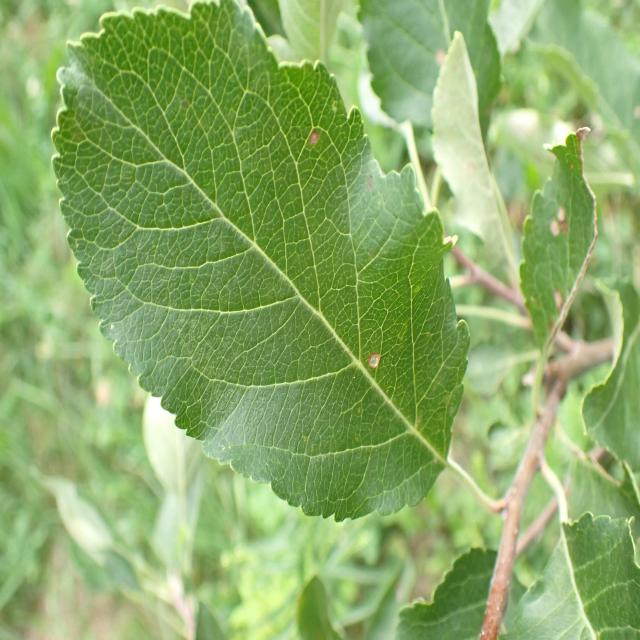Black Rot: (532, 110, 606, 370), (302, 111, 332, 171), (358, 353, 402, 385)
